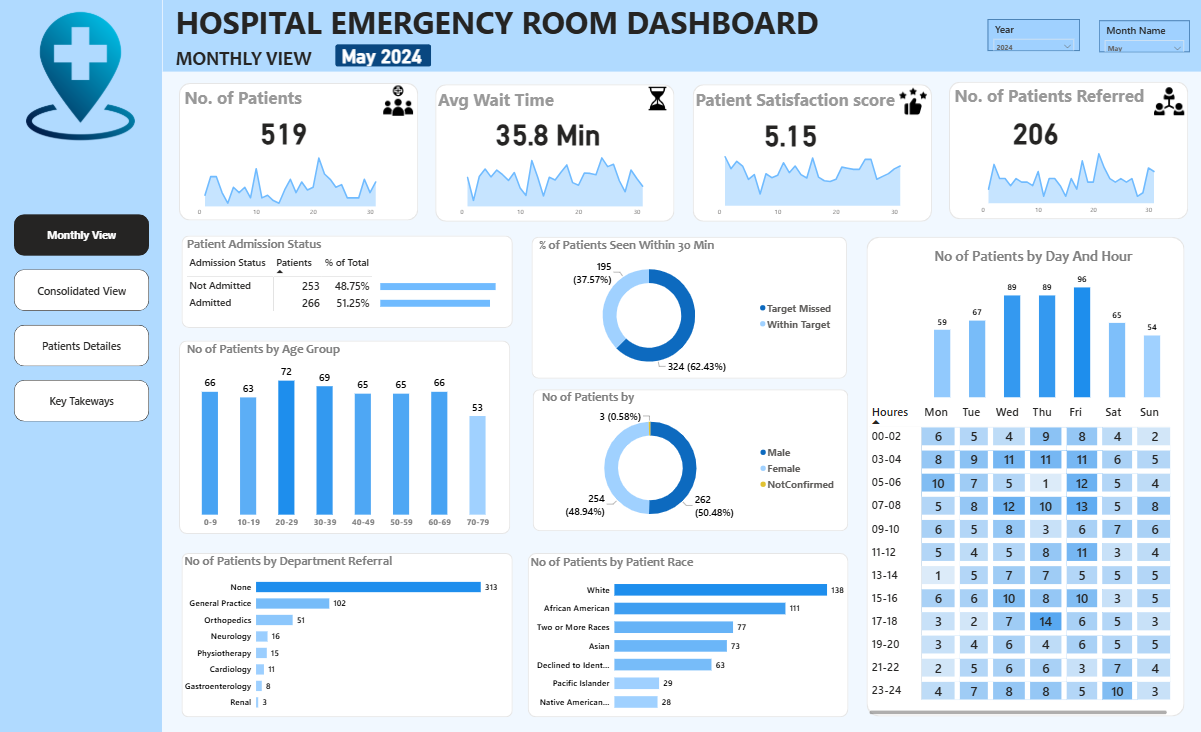

What the dashboard file says about the page in this screenshot:
{"tool":"powerbi","page":{"name":"Monthly View","canvas":[2300,1400],"ordinal":0},"visuals":[{"type":"shape","box":[9.9,0,310,1400.5],"z":0},{"type":"shape","box":[321,0,1978.3,140.3],"z":1000},{"type":"textbox","box":[340,0,1265,140.3],"z":2000},{"type":"textbox","box":[340,88,332.9,69],"z":3000},{"type":"slicer","fields":{"Values":["Date Table.Year"]},"box":[1890,40,175,60],"z":4000},{"type":"slicer","fields":{"Values":["Date Table.Month Name"]},"box":[2102.5,42.5,172.5,60],"z":5000},{"type":"shape","box":[351.4,160.7,455,261.6],"z":6000},{"type":"cardVisual","fields":{"Data":["Hospital ER_Data.No of Patients"]},"box":[475.5,197.4,399.5,118.9],"z":7000},{"type":"textbox","box":[356.2,160.7,323.4,59.4],"z":8000},{"type":"areaChart","fields":{"Category":["Date Table.Date.Variation.Date Hierarchy.Day"],"Y":["Hospital ER_Data.No of Patients"]},"box":[375.7,280.6,409,145],"z":9000},{"type":"cardVisual","fields":{"Data":["Min(Date Table.Month & Year)"]},"box":[632.5,71.3,596.8,76.1],"z":10000},{"type":"shape","box":[839.8,163.1,455,261.6],"z":11000},{"type":"textbox","box":[839.3,166.4,323.4,59.4],"z":12000},{"type":"areaChart","fields":{"Category":["Date Table.Date.Variation.Date Hierarchy.Day"],"Y":["Avg(Hospital ER_Data.Patient Waittime)"]},"box":[875,280.6,418.5,145],"z":13000},{"type":"shape","box":[1328.2,165,455,261.6],"z":14000},{"type":"textbox","box":[1330,167.5,452.5,57.5],"z":15000},{"type":"areaChart","fields":{"Category":["Date Table.Date.Variation.Date Hierarchy.Day"],"Y":["Hospital ER_Data.Satisfacton Score"]},"box":[1364.8,280.6,418.5,145],"z":16000},{"type":"shape","box":[1816.6,159.3,455,261.6],"z":17000},{"type":"textbox","box":[1821.3,159.3,385.2,59.4],"z":18000},{"type":"areaChart","fields":{"Category":["Date Table.Date.Variation.Date Hierarchy.Day"],"Y":["Hospital ER_Data.No of Patients Referred"]},"box":[1866.5,275.8,397.1,145],"z":19000},{"type":"cardVisual","fields":{"Data":["Hospital ER_Data.Avg Wait Time"]},"box":[924.9,214,734.7,92.7],"z":20000},{"type":"cardVisual","fields":{"Data":["Hospital ER_Data.Satisfacton Score"]},"box":[1433.8,209.2,454.1,104.6],"z":21000},{"type":"cardVisual","fields":{"Data":["Hospital ER_Data.No of Patients Referred"]},"box":[1906.9,204.5,392.3,107],"z":22000},{"type":"shape","box":[357.1,451.3,630.1,176],"z":23000},{"type":"pivotTable","title":"Patient Admission Status","fields":{"Rows":["Hospital ER_Data.Admission Status"],"Values":["Hospital ER_Data.No of Patients1","Hospital ER_Data.No of Patients"]},"box":[362.5,452.5,630,175],"z":24000},{"type":"barChart","fields":{"Category":["Hospital ER_Data.Admission Status"],"Y":["Hospital ER_Data.No of Patients"]},"box":[730,512.5,257.5,97.5],"z":25000},{"type":"shape","box":[352.5,652.5,630,368],"z":26000},{"type":"clusteredColumnChart","fields":{"Category":["Hospital ER_Data.Age Group"],"Y":["Hospital ER_Data.No of Patients"]},"box":[362.5,652.5,610,367.5],"z":27000},{"type":"shape","box":[357.5,1055,630,312.5],"z":28000},{"type":"clusteredBarChart","fields":{"Category":["Hospital ER_Data.Department Referral"],"Y":["Hospital ER_Data.No of Patients"]},"box":[357.5,1055,625,312.5],"z":29000},{"type":"shape","box":[1021.5,454.5,600,270],"z":30000},{"type":"donutChart","title":"% of Patients Seen Within 30 Min","fields":{"Category":["Hospital ER_Data.Waittime Status"],"Y":["Hospital ER_Data.No of Patients"]},"box":[1031.5,454.5,575,270],"z":31000},{"type":"shape","box":[1025.5,744.5,600,270],"z":32000},{"type":"donutChart","title":"No of Patients by ","fields":{"Y":["Hospital ER_Data.No of Patients"],"Category":["Hospital ER_Data.Patient Gender"]},"box":[1036.5,744.5,575,270],"z":33000},{"type":"shape","box":[1015,1055,610,312.5],"z":34000},{"type":"clusteredBarChart","fields":{"Y":["Hospital ER_Data.No of Patients"],"Category":["Hospital ER_Data.Patient Race"]},"box":[1015,1057.5,607.5,312.5],"z":35000},{"type":"shape","box":[1660,455,605,912.5],"z":36000},{"type":"pivotTable","fields":{"Columns":["Date Table.Day Name"],"Rows":["Hospital ER_Data.Waittime Interval"],"Values":["Hospital ER_Data.No of Patients"]},"box":[1660,765,582.5,602.5],"z":37000},{"type":"columnChart","title":"No of Patients by Day And Hour","fields":{"Category":["Date Table.Day Name"],"Y":["Hospital ER_Data.No of Patients"]},"box":[1782.5,472.5,442.5,292.5],"z":38000},{"type":"image","box":[35,25,257.5,245],"z":39000},{"type":"image","box":[730,167.5,77.5,57.5],"z":40000},{"type":"image","box":[1230,170,65,45],"z":41000},{"type":"image","box":[2207.5,167.5,57.5,60],"z":42000},{"type":"image","box":[1715,167.5,67.5,60],"z":43000},{"type":"pageNavigator","box":[37.5,412.5,257.5,395],"z":44000}]}

Visuals, with their boxes in screenshot pixels (x1, y1, x2, y2), scaled from the page's 2300x1400 canvas onto the 1201x732 screenshot:
shape: {"x1": 5, "y1": 0, "x2": 167, "y2": 731}
shape: {"x1": 168, "y1": 0, "x2": 1200, "y2": 73}
textbox: {"x1": 178, "y1": 0, "x2": 838, "y2": 73}
textbox: {"x1": 178, "y1": 46, "x2": 351, "y2": 82}
slicer - Date Table.Year: {"x1": 987, "y1": 21, "x2": 1078, "y2": 52}
slicer - Date Table.Month Name: {"x1": 1098, "y1": 22, "x2": 1188, "y2": 54}
shape: {"x1": 183, "y1": 84, "x2": 421, "y2": 221}
cardVisual - Hospital ER_Data.No of Patients: {"x1": 248, "y1": 103, "x2": 457, "y2": 165}
textbox: {"x1": 186, "y1": 84, "x2": 355, "y2": 115}
areaChart - Date Table.Date.Variation.Date Hierarchy.Day x Hospital ER_Data.No of Patients: {"x1": 196, "y1": 147, "x2": 410, "y2": 223}
cardVisual - Min(Date Table.Month & Year): {"x1": 330, "y1": 37, "x2": 642, "y2": 77}
shape: {"x1": 439, "y1": 85, "x2": 676, "y2": 222}
textbox: {"x1": 438, "y1": 87, "x2": 607, "y2": 118}
areaChart - Date Table.Date.Variation.Date Hierarchy.Day x Avg(Hospital ER_Data.Patient Waittime): {"x1": 457, "y1": 147, "x2": 675, "y2": 223}
shape: {"x1": 694, "y1": 86, "x2": 931, "y2": 223}
textbox: {"x1": 694, "y1": 88, "x2": 931, "y2": 118}
areaChart - Date Table.Date.Variation.Date Hierarchy.Day x Hospital ER_Data.Satisfacton Score: {"x1": 713, "y1": 147, "x2": 931, "y2": 223}
shape: {"x1": 949, "y1": 83, "x2": 1186, "y2": 220}
textbox: {"x1": 951, "y1": 83, "x2": 1152, "y2": 114}
areaChart - Date Table.Date.Variation.Date Hierarchy.Day x Hospital ER_Data.No of Patients Referred: {"x1": 975, "y1": 144, "x2": 1182, "y2": 220}
cardVisual - Hospital ER_Data.Avg Wait Time: {"x1": 483, "y1": 112, "x2": 867, "y2": 160}
cardVisual - Hospital ER_Data.Satisfacton Score: {"x1": 749, "y1": 109, "x2": 986, "y2": 164}
cardVisual - Hospital ER_Data.No of Patients Referred: {"x1": 996, "y1": 107, "x2": 1200, "y2": 163}
shape: {"x1": 186, "y1": 236, "x2": 515, "y2": 328}
"Patient Admission Status" pivotTable: {"x1": 189, "y1": 237, "x2": 518, "y2": 328}
barChart - Hospital ER_Data.Admission Status x Hospital ER_Data.No of Patients: {"x1": 381, "y1": 268, "x2": 516, "y2": 319}
shape: {"x1": 184, "y1": 341, "x2": 513, "y2": 534}
clusteredColumnChart - Hospital ER_Data.Age Group x Hospital ER_Data.No of Patients: {"x1": 189, "y1": 341, "x2": 508, "y2": 533}
shape: {"x1": 187, "y1": 552, "x2": 516, "y2": 715}
clusteredBarChart - Hospital ER_Data.Department Referral x Hospital ER_Data.No of Patients: {"x1": 187, "y1": 552, "x2": 513, "y2": 715}
shape: {"x1": 533, "y1": 238, "x2": 847, "y2": 379}
"% of Patients Seen Within 30 Min" donutChart: {"x1": 539, "y1": 238, "x2": 839, "y2": 379}
shape: {"x1": 535, "y1": 389, "x2": 849, "y2": 530}
"No of Patients by " donutChart: {"x1": 541, "y1": 389, "x2": 841, "y2": 530}
shape: {"x1": 530, "y1": 552, "x2": 849, "y2": 715}
clusteredBarChart - Hospital ER_Data.No of Patients x Hospital ER_Data.Patient Race: {"x1": 530, "y1": 553, "x2": 847, "y2": 716}
shape: {"x1": 867, "y1": 238, "x2": 1183, "y2": 715}
pivotTable - Date Table.Day Name x Hospital ER_Data.Waittime Interval: {"x1": 867, "y1": 400, "x2": 1171, "y2": 715}
"No of Patients by Day And Hour" columnChart: {"x1": 931, "y1": 247, "x2": 1162, "y2": 400}
image: {"x1": 18, "y1": 13, "x2": 153, "y2": 141}
image: {"x1": 381, "y1": 88, "x2": 422, "y2": 118}
image: {"x1": 642, "y1": 89, "x2": 676, "y2": 112}
image: {"x1": 1153, "y1": 88, "x2": 1183, "y2": 119}
image: {"x1": 896, "y1": 88, "x2": 931, "y2": 119}
pageNavigator: {"x1": 20, "y1": 216, "x2": 154, "y2": 422}
